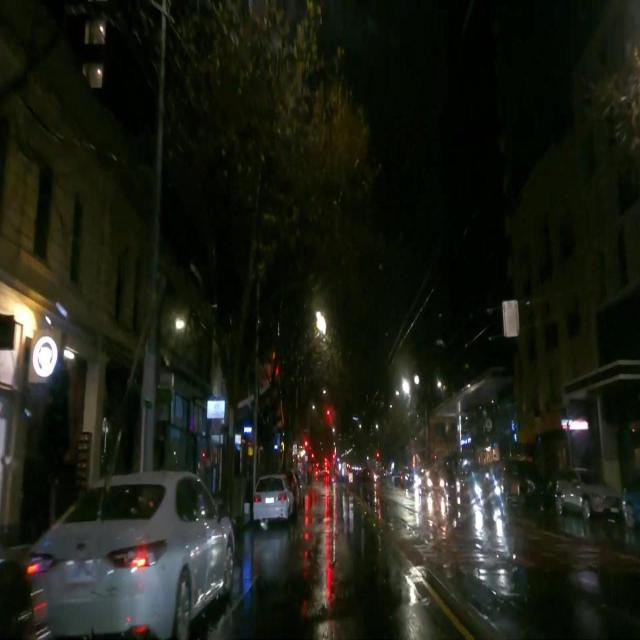Car: (35, 475, 232, 628), (552, 473, 607, 522), (253, 475, 293, 521)
